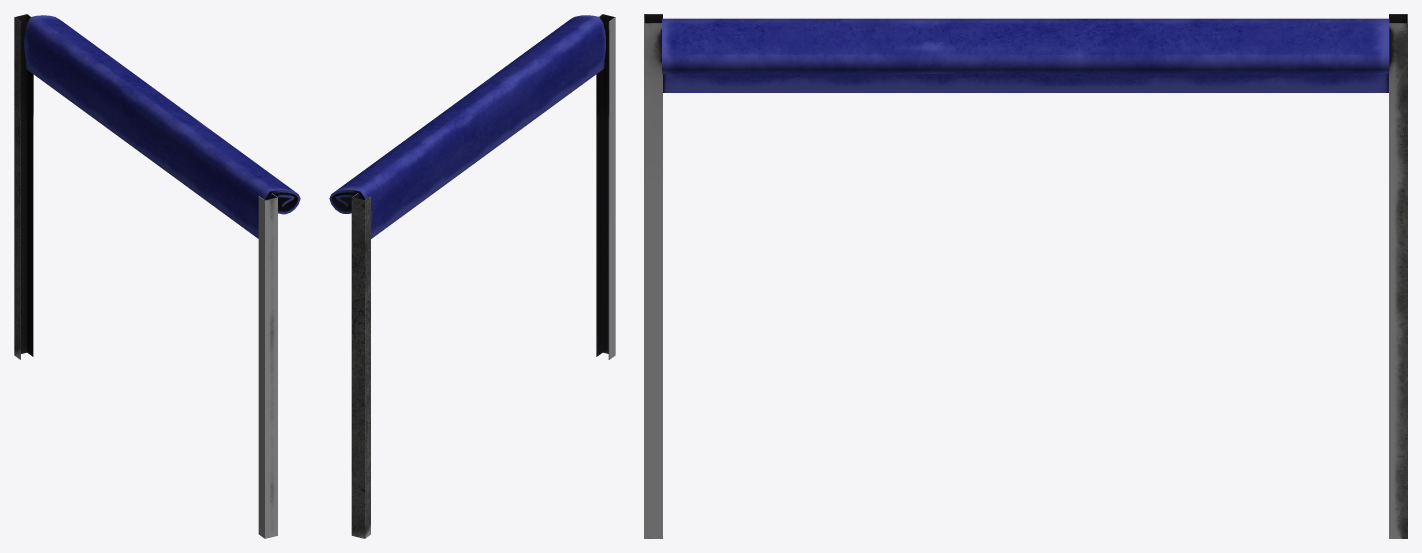
The model's file is PuertaCorrediza.FBX.
3 renders of one model, left to right at view 1: azimuth 30°, elevation 25°; view 2: azimuth 150°, elevation 25°; view 3: azimuth 270°, elevation 25°, orthographic. The views are drawn at different scales.
Visible parts, largest first — view 1: puerta_elevadiza, soporte001; view 2: puerta_elevadiza, soporte001; view 3: puerta_elevadiza, soporte001.
Boxes of the visible parts, x1=… form: puerta_elevadiza: x1=24, y1=15, x2=300, y2=238; soporte001: x1=14, y1=14, x2=277, y2=538; puerta_elevadiza: x1=329, y1=15, x2=605, y2=238; soporte001: x1=351, y1=14, x2=615, y2=538; puerta_elevadiza: x1=662, y1=18, x2=1389, y2=92; soporte001: x1=644, y1=14, x2=1407, y2=538.
Size of the model in its own units: 38.17 by 299 by 399.
1 material, 1 textured.
